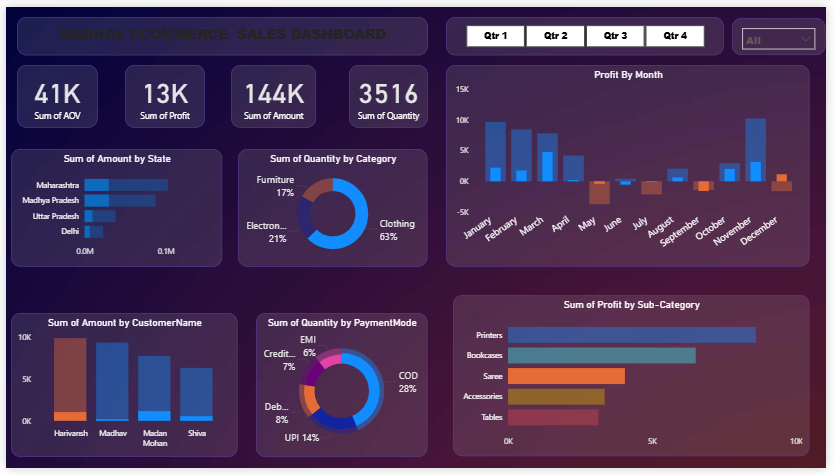

This screenshot's page, from the dashboard's own definition file:
{"tool":"powerbi","page":{"name":"Page 1","canvas":[1280,720],"ordinal":0},"visuals":[{"type":"columnChart","title":"Profit By Month","fields":{"Category":["Orders (1).Order Date.Variation.Date Hierarchy.Month"],"Y":["Details.Profit"]},"box":[687.4,90.7,568.3,314.6],"z":0},{"type":"textbox","box":[17,15.6,642,59.5],"z":1000},{"type":"barChart","fields":{"Category":["Details.Sub-Category"],"Y":["Details.Profit"]},"box":[698.7,450.7,557,252.3],"z":2000},{"type":"donutChart","fields":{"Category":["Details.Category"],"Y":["Details.Quantity"]},"box":[362.8,221.1,296.2,184.3],"z":3000},{"type":"donutChart","fields":{"Y":["Details.Quantity"],"Category":["Details.PaymentMode"]},"box":[391.2,477.6,267.9,225.4],"z":4000},{"type":"card","fields":{"Values":["Details.Amount"]},"box":[352.9,90.7,131.8,97.8],"z":5000},{"type":"card","fields":{"Values":["Details.Profit"]},"box":[185.7,90.7,124.7,97.8],"z":6000},{"type":"card","fields":{"Values":["Details.Quantity"]},"box":[535.7,90.7,123.3,97.8],"z":7000},{"type":"card","fields":{"Values":["Details.AOV"]},"box":[17,90.7,126.1,97.8],"z":8000},{"type":"barChart","fields":{"Category":["Orders (1).State"],"Y":["Details.Amount"]},"box":[8.5,231,330.2,174.3],"z":9000},{"type":"columnChart","fields":{"Category":["Orders (1).CustomerName"],"Y":["Details.Amount"]},"box":[8.5,477.6,354.3,225.4],"z":10000},{"type":"slicer","fields":{"Values":["Orders (1).Order Date.Variation.Date Hierarchy.Quarter"]},"box":[687.4,15.6,433.7,59.5],"z":11000},{"type":"slicer","fields":{"Values":["Orders (1).State"]},"box":[1133.9,17,146,58.1],"z":11001}]}

Visuals, with their boxes in screenshot pixels (x1, y1, x2, y2), scaled from the page's 1280x720 canvas onto the 836x475 screenshot:
"Profit By Month" columnChart: bbox=[449, 60, 820, 267]
textbox: bbox=[11, 10, 430, 50]
barChart - Details.Sub-Category x Details.Profit: bbox=[456, 297, 820, 464]
donutChart - Details.Category x Details.Quantity: bbox=[237, 146, 430, 267]
donutChart - Details.Quantity x Details.PaymentMode: bbox=[256, 315, 430, 464]
card - Details.Amount: bbox=[230, 60, 317, 124]
card - Details.Profit: bbox=[121, 60, 203, 124]
card - Details.Quantity: bbox=[350, 60, 430, 124]
card - Details.AOV: bbox=[11, 60, 93, 124]
barChart - Orders (1).State x Details.Amount: bbox=[6, 152, 221, 267]
columnChart - Orders (1).CustomerName x Details.Amount: bbox=[6, 315, 237, 464]
slicer - Orders (1).Order Date.Variation.Date Hierarchy.Quarter: bbox=[449, 10, 732, 50]
slicer - Orders (1).State: bbox=[741, 11, 835, 50]
